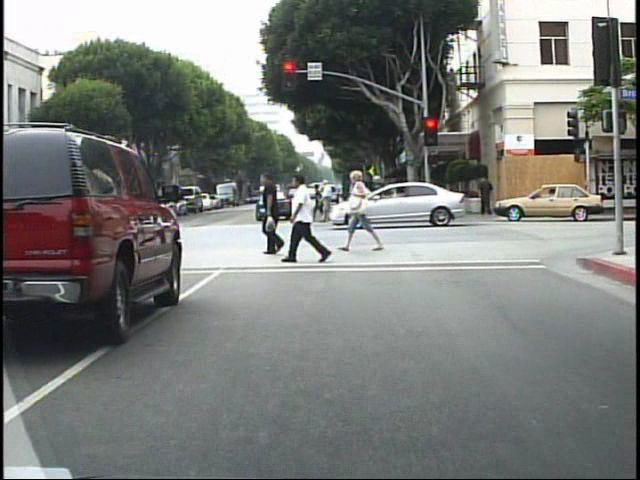person: (292, 171, 332, 266), (257, 169, 295, 262), (348, 167, 382, 254), (366, 168, 387, 226), (322, 176, 341, 223), (476, 169, 494, 218), (311, 181, 331, 225), (363, 177, 381, 223), (150, 181, 166, 232), (119, 183, 137, 228), (4, 193, 21, 238), (5, 199, 21, 236)
